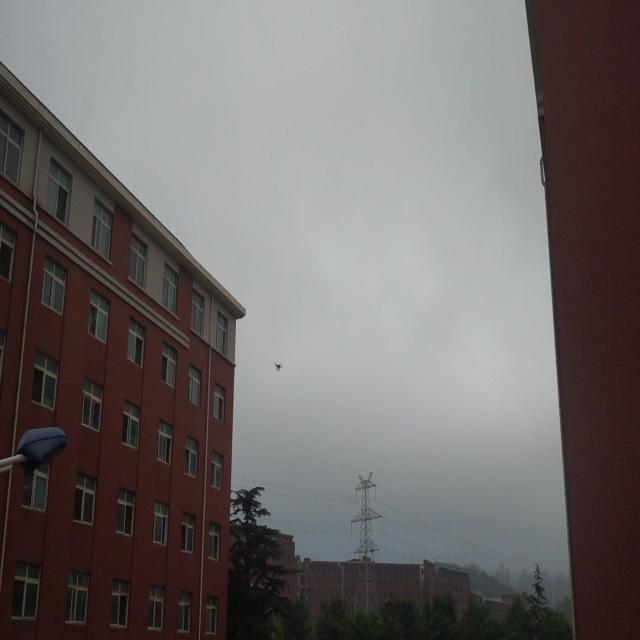drone: (272, 358, 284, 372)
